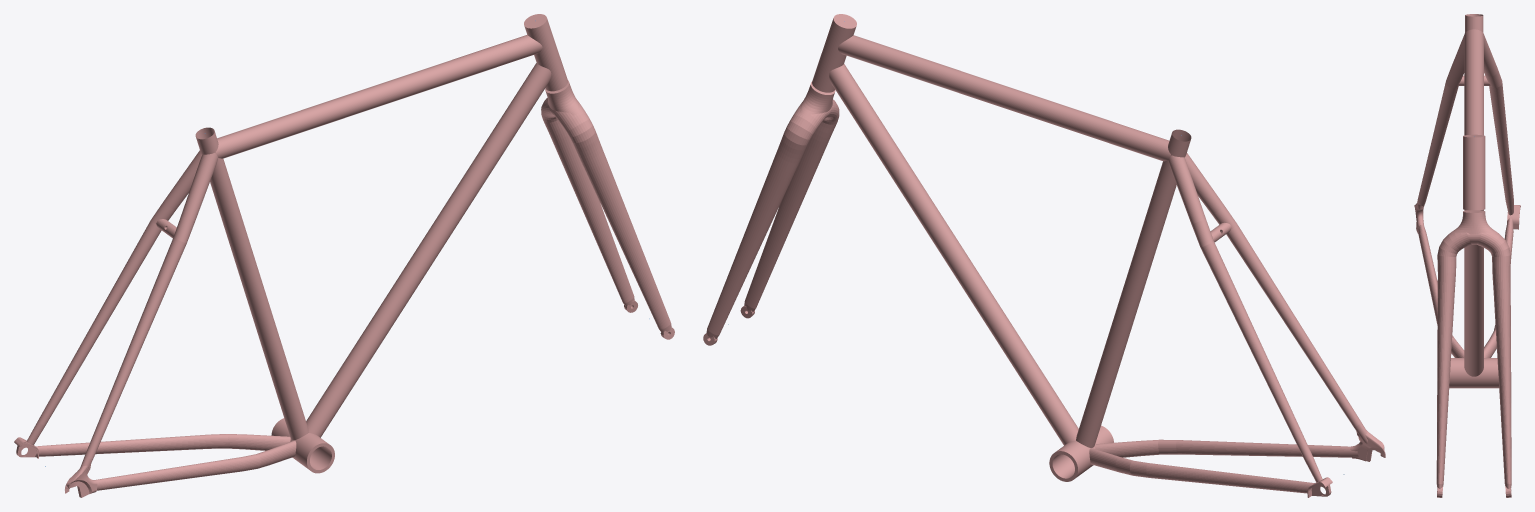
The model's file is bikeFrame3.glb.
3 renders of one model, left to right at view 1: azimuth 30°, elevation 25°; view 2: azimuth 150°, elevation 25°; view 3: azimuth 270°, elevation 25°, orthographic. The views are drawn at different scales.
Visible parts, largest first — view 1: no_transformations; view 2: no_transformations; view 3: no_transformations.
Part boxes in pixels (left/top/right/bottom): no_transformations: left=14, top=14, right=674, bottom=497; no_transformations: left=703, top=14, right=1385, bottom=497; no_transformations: left=1414, top=14, right=1520, bottom=497.
Bounding box in the file's own units: 1013 × 602 × 162.
